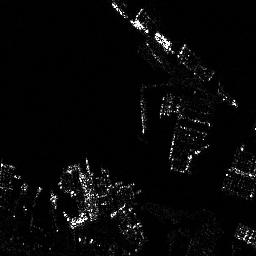ship: (56, 179, 77, 197)
